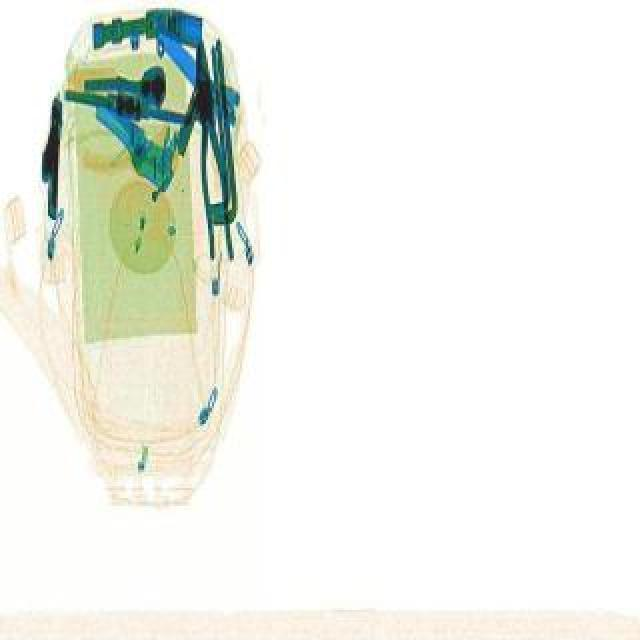gun: (36, 92, 64, 220)
wrench: (184, 34, 236, 260)
